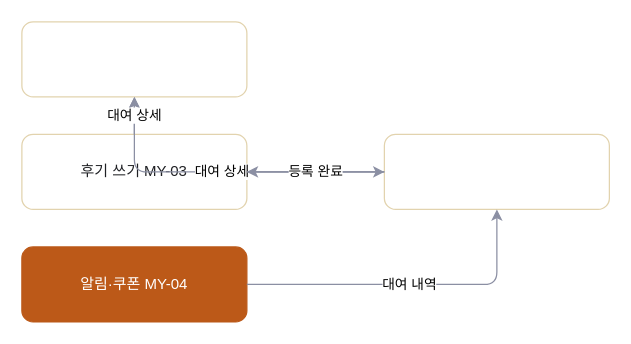
The diagram is 631 pixels wide and 344 high, and some of its shapes have lost their labels. Here are the shapes that lost their labels. From the top down, the box of each, then its label:
(21, 21, 247, 97): 대여 상세 MY-02
(383, 133, 609, 209): 내 대여 내역 MY-01
